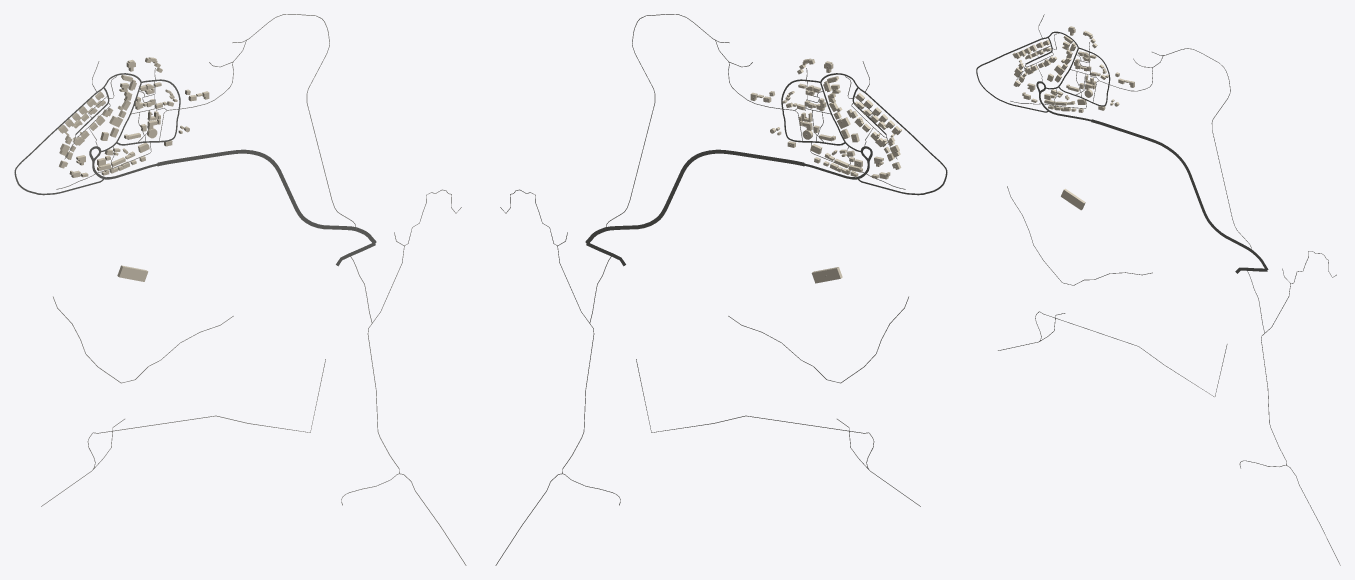
Rendered from historic-palestine-09_22_3510_3167.glb.
3 views of the same model, side by side, from view 1: azimuth 30°, elevation 25°; view 2: azimuth 150°, elevation 25°; view 3: azimuth 330°, elevation 25° (orthographic). The views are drawn at different scales.
Parts seen in each view (by area): view 1: Road .013; view 2: Road .013; view 3: Road .013.
Part boxes in pixels (left/top/right/bottom): Road .013: left=157, top=149, right=376, bottom=242; Road .013: left=585, top=149, right=804, bottom=244; Road .013: left=1091, top=119, right=1268, bottom=270.
Size of the model in its own units: 1005 by 1267 by 8.7.
